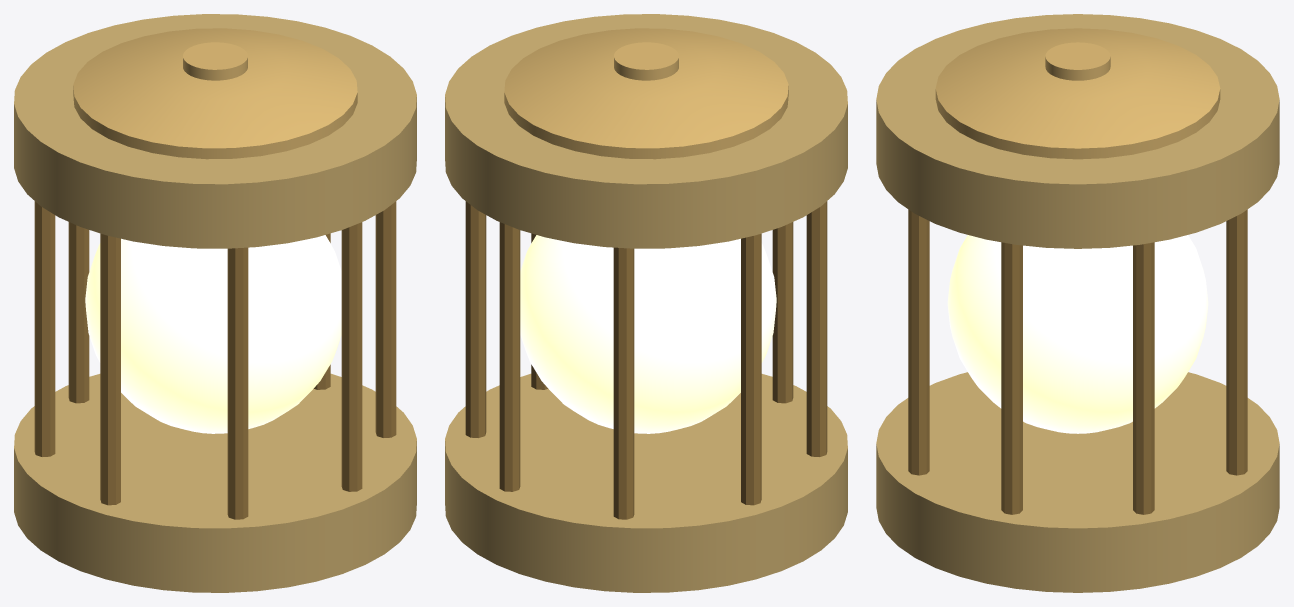
File: sanctum-lamp-v01.glb
3 views of the same model, side by side, from view 1: azimuth 30°, elevation 25°; view 2: azimuth 150°, elevation 25°; view 3: azimuth 270°, elevation 25° (orthographic).
Parts seen in each view (by area): view 1: Shadow gold 1, Shadow lamp glow 0, Shadow brass 2, Shadow brass light 3; view 2: Shadow gold 1, Shadow lamp glow 0, Shadow brass 2, Shadow brass light 3; view 3: Shadow gold 1, Shadow lamp glow 0, Shadow brass light 3, Shadow brass 2.
Boxes of the visible parts, x1,y1,x2,y2 form: Shadow gold 1: (14, 14, 416, 592); Shadow lamp glow 0: (85, 235, 341, 433); Shadow brass 2: (34, 201, 396, 519); Shadow brass light 3: (73, 28, 357, 159); Shadow gold 1: (445, 14, 847, 592); Shadow lamp glow 0: (520, 235, 776, 433); Shadow brass 2: (465, 201, 827, 519); Shadow brass light 3: (504, 28, 788, 159); Shadow gold 1: (876, 14, 1279, 592); Shadow lamp glow 0: (947, 235, 1208, 433); Shadow brass light 3: (935, 28, 1220, 159); Shadow brass 2: (908, 209, 1247, 514).
Bounding box in the file's own units: 0.68 × 0.88 × 0.68.
